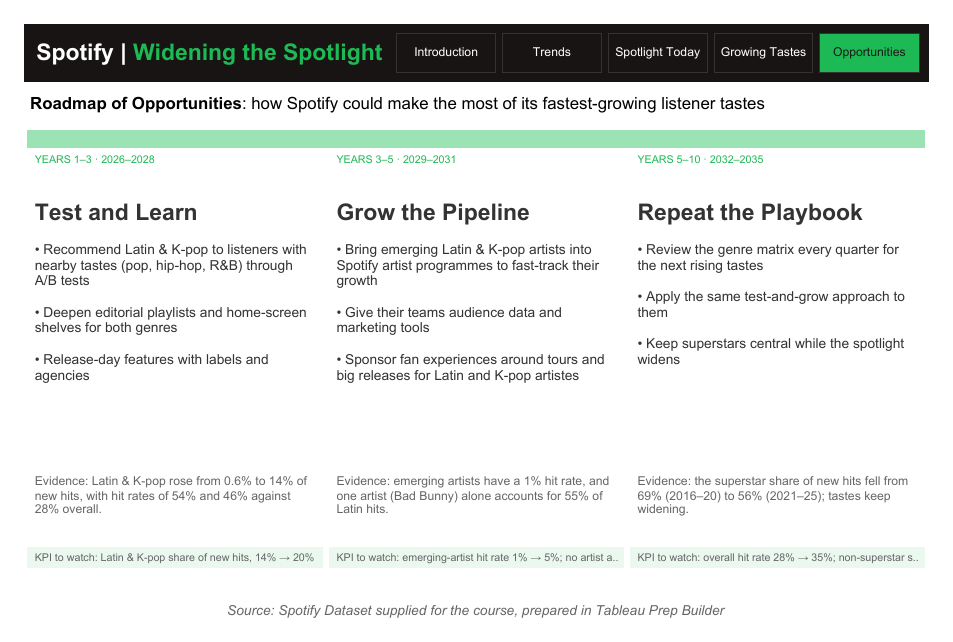

The dashboard page shown, as its layout file describes it:
{"tool":"tableau","page":{"name":"Opportunities","canvas":[1200,800],"ordinal":2},"visuals":[{"type":"text","box":[16,16,475,60]},{"type":"dashboard-object","box":[491,16,138.6,60]},{"type":"dashboard-object","box":[629.6,16,138.6,60]},{"type":"dashboard-object","box":[768.2,16,138.6,60]},{"type":"dashboard-object","box":[906.8,16,138.6,60]},{"type":"dashboard-object","box":[1045.4,16,138.6,60]},{"type":"text","box":[8,84,1152,58]},{"type":"blank","box":[8,142,1184,32]},{"type":"text","box":[8,174,394.7,22.5]},{"type":"text","box":[402.7,174,394.7,22.5]},{"type":"text","box":[797.3,174,394.7,22.5]},{"type":"text","box":[8,219,394.7,345]},{"type":"text","box":[402.7,219,394.7,345]},{"type":"text","box":[797.3,219,394.7,345]},{"type":"text","box":[8,564,394.7,124]},{"type":"text","box":[403,564,394,124]},{"type":"text","box":[797,564,395,124]},{"type":"text","box":[8,688,394.7,36]},{"type":"text","box":[402.7,688,394.7,36]},{"type":"text","box":[797.3,688,394.7,36]},{"type":"text","box":[8,760,1184,32]}]}

Visuals, with their boxes in screenshot pixels (x1, y1, x2, y2), scaled from the page's 1200x800 canvas onto the 953x642 screenshot:
text: x1=13, y1=13, x2=390, y2=61
dashboard-object: x1=390, y1=13, x2=500, y2=61
dashboard-object: x1=500, y1=13, x2=610, y2=61
dashboard-object: x1=610, y1=13, x2=720, y2=61
dashboard-object: x1=720, y1=13, x2=830, y2=61
dashboard-object: x1=830, y1=13, x2=940, y2=61
text: x1=6, y1=67, x2=921, y2=114
blank: x1=6, y1=114, x2=947, y2=140
text: x1=6, y1=140, x2=320, y2=158
text: x1=320, y1=140, x2=633, y2=158
text: x1=633, y1=140, x2=947, y2=158
text: x1=6, y1=176, x2=320, y2=453
text: x1=320, y1=176, x2=633, y2=453
text: x1=633, y1=176, x2=947, y2=453
text: x1=6, y1=453, x2=320, y2=552
text: x1=320, y1=453, x2=633, y2=552
text: x1=633, y1=453, x2=947, y2=552
text: x1=6, y1=552, x2=320, y2=581
text: x1=320, y1=552, x2=633, y2=581
text: x1=633, y1=552, x2=947, y2=581
text: x1=6, y1=610, x2=947, y2=636
